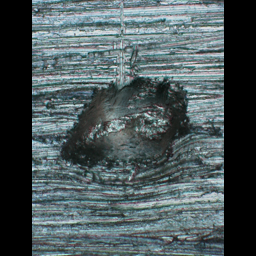d: (55, 52, 198, 191)
